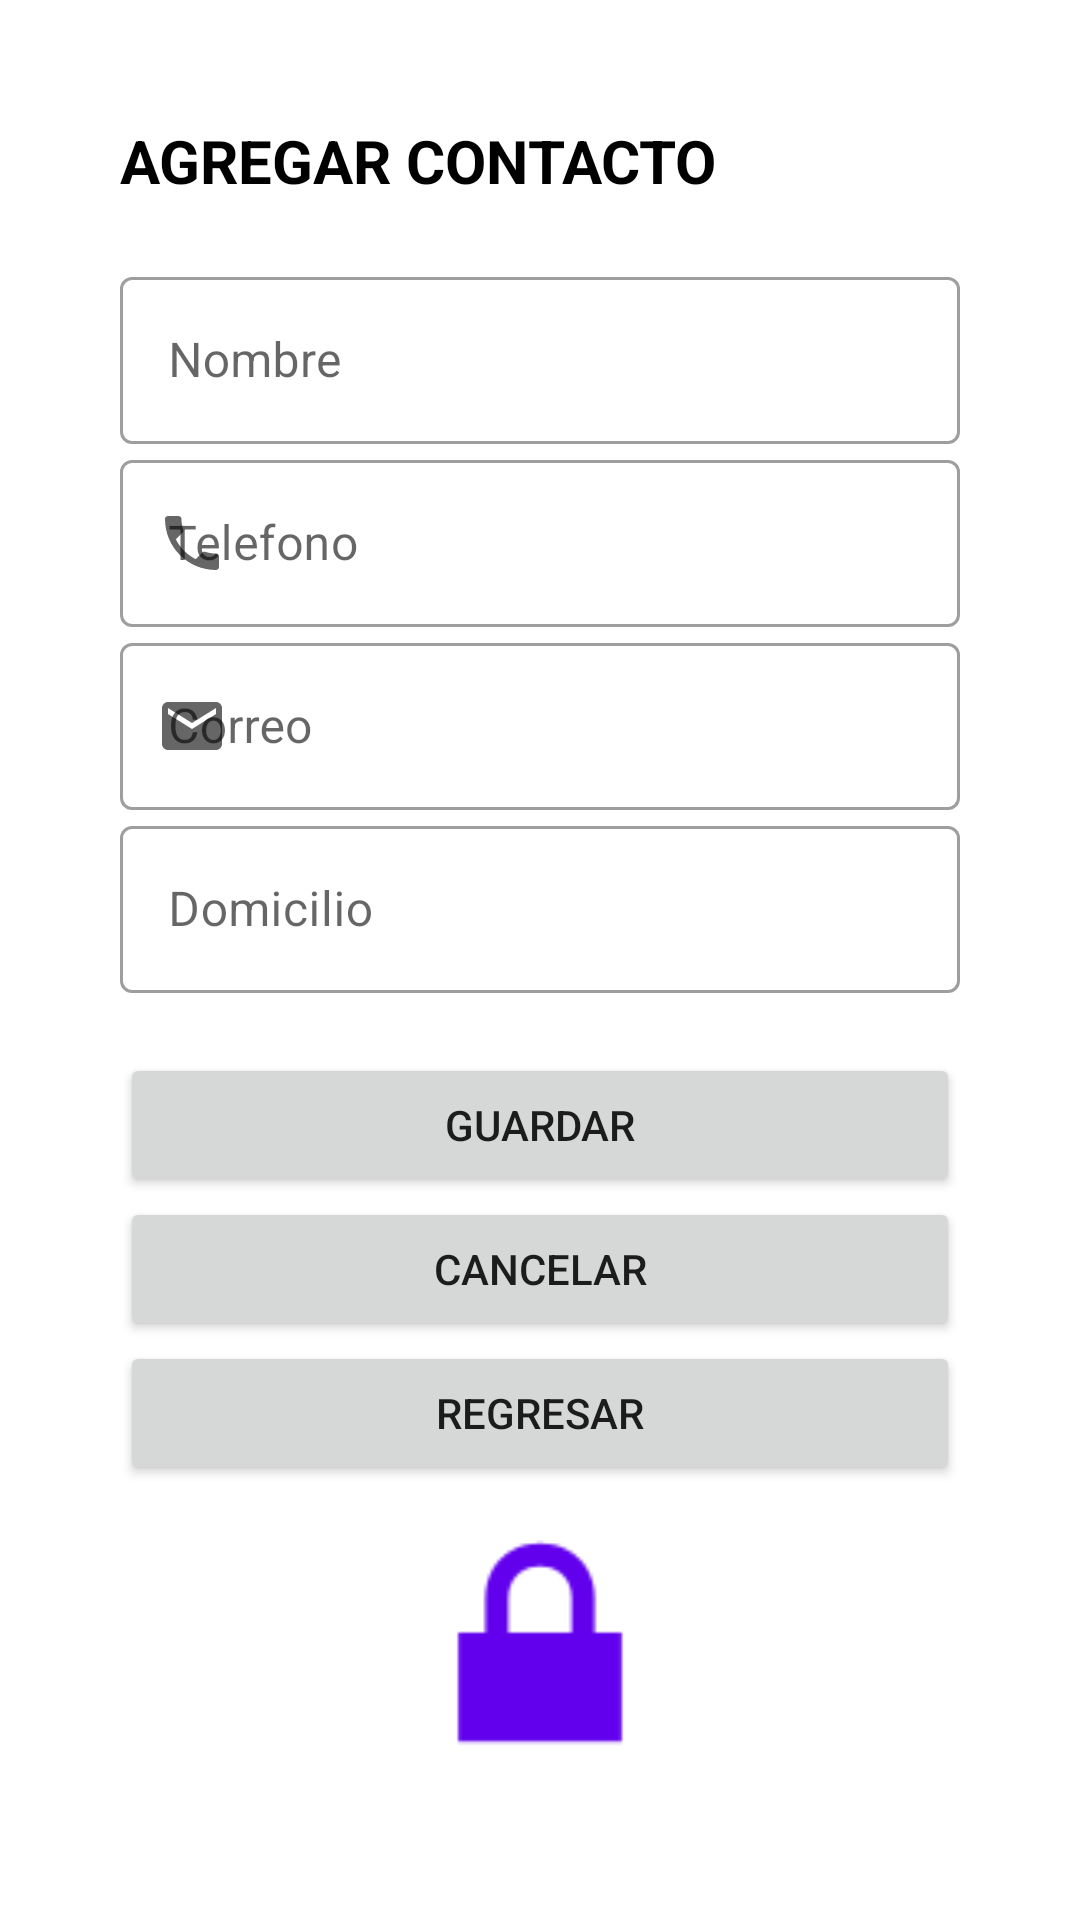

Named icons in this screenshot (1080 × 1920) and their bounding boxes, (x1, y1, x2, y2):
lock: (457, 1541, 623, 1744)
